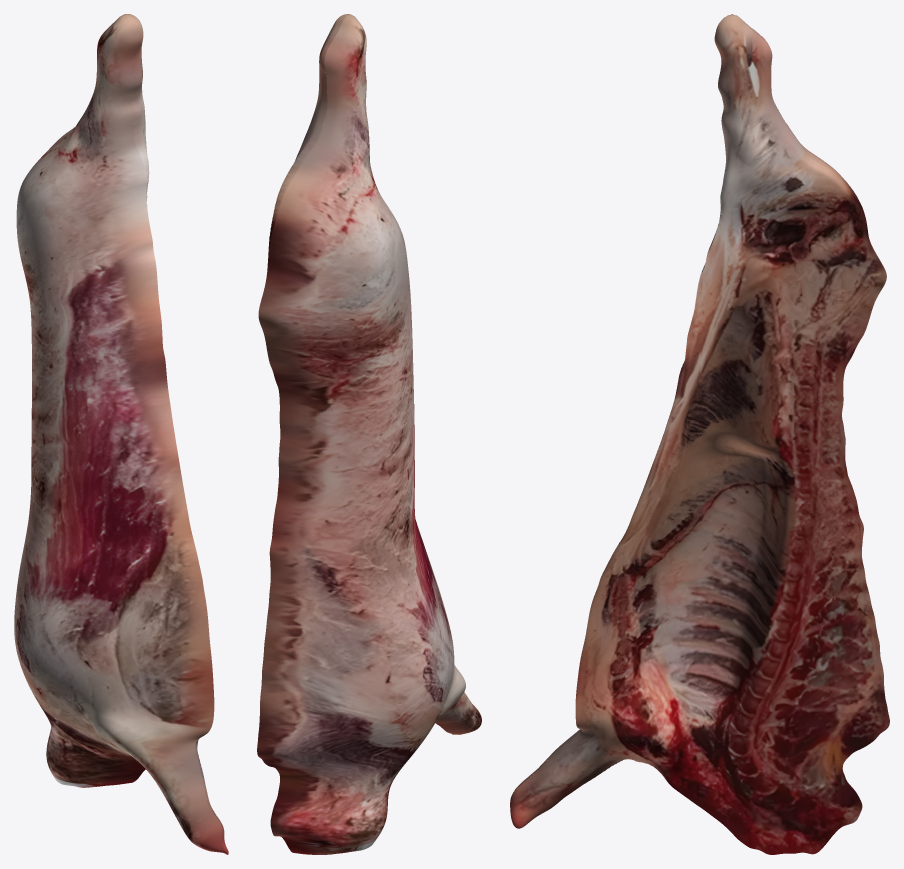
The model's file is demi_carcasse_boeuf_v12.glb.
3 views of the same model, side by side, from view 1: azimuth 30°, elevation 25°; view 2: azimuth 150°, elevation 25°; view 3: azimuth 270°, elevation 25° (orthographic). The views are drawn at different scales.
Parts seen in each view (by area): view 1: face_exterieure, face_de_fente; view 2: face_exterieure, face_de_fente; view 3: face_de_fente, face_exterieure.
Boxes of the visible parts, bbox=[...] form: face_exterieure: bbox=[14, 14, 228, 854]; face_de_fente: bbox=[126, 14, 228, 853]; face_exterieure: bbox=[257, 14, 481, 854]; face_de_fente: bbox=[268, 14, 452, 734]; face_de_fente: bbox=[510, 15, 889, 854]; face_exterieure: bbox=[513, 14, 882, 792].
Size of the model in its own units: 0.4164 by 2.5 by 1.03.
2 materials, 2 textured.
